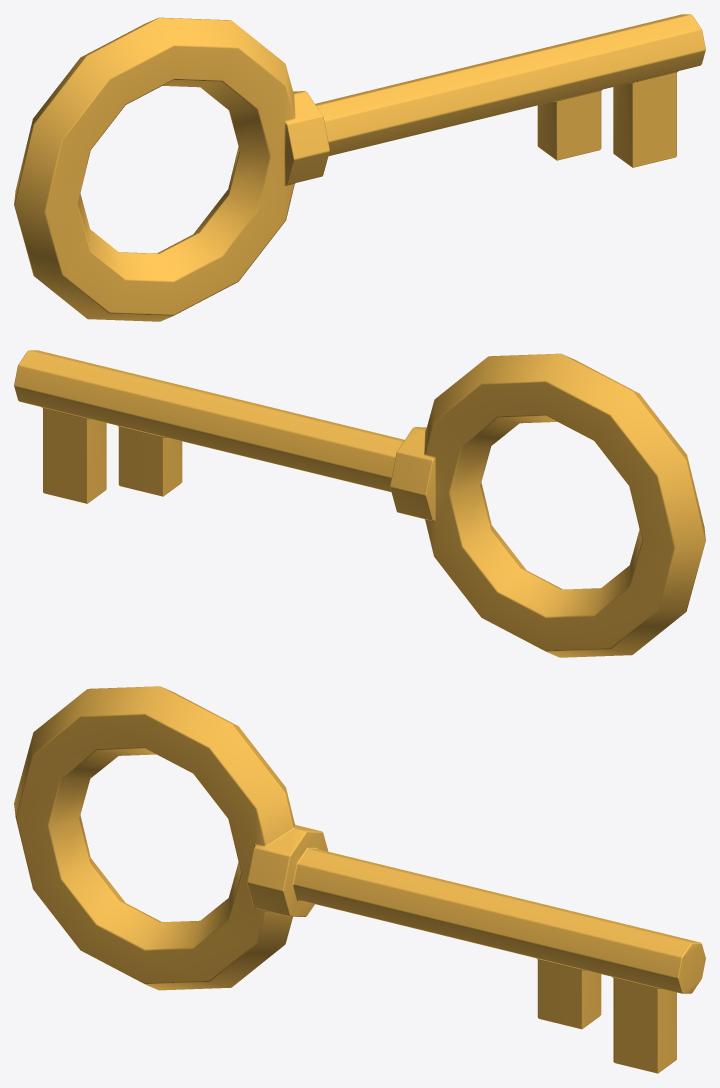
Rendered from dungeon-key.glb.
The picture shows the model from 3 angles, top to bottom: view 1: azimuth 30°, elevation 25°; view 2: azimuth 150°, elevation 25°; view 3: azimuth 330°, elevation 25°; orthographic projection.
Parts seen in each view (by area): view 1: DungeonKey; view 2: DungeonKey; view 3: DungeonKey.
Part boxes in pixels (x1,y1,x2,y2): DungeonKey: (14, 14, 705, 321); DungeonKey: (14, 350, 705, 657); DungeonKey: (14, 686, 705, 1073).
Bounding box in the file's own units: 0.926 × 0.396 × 0.1109.
